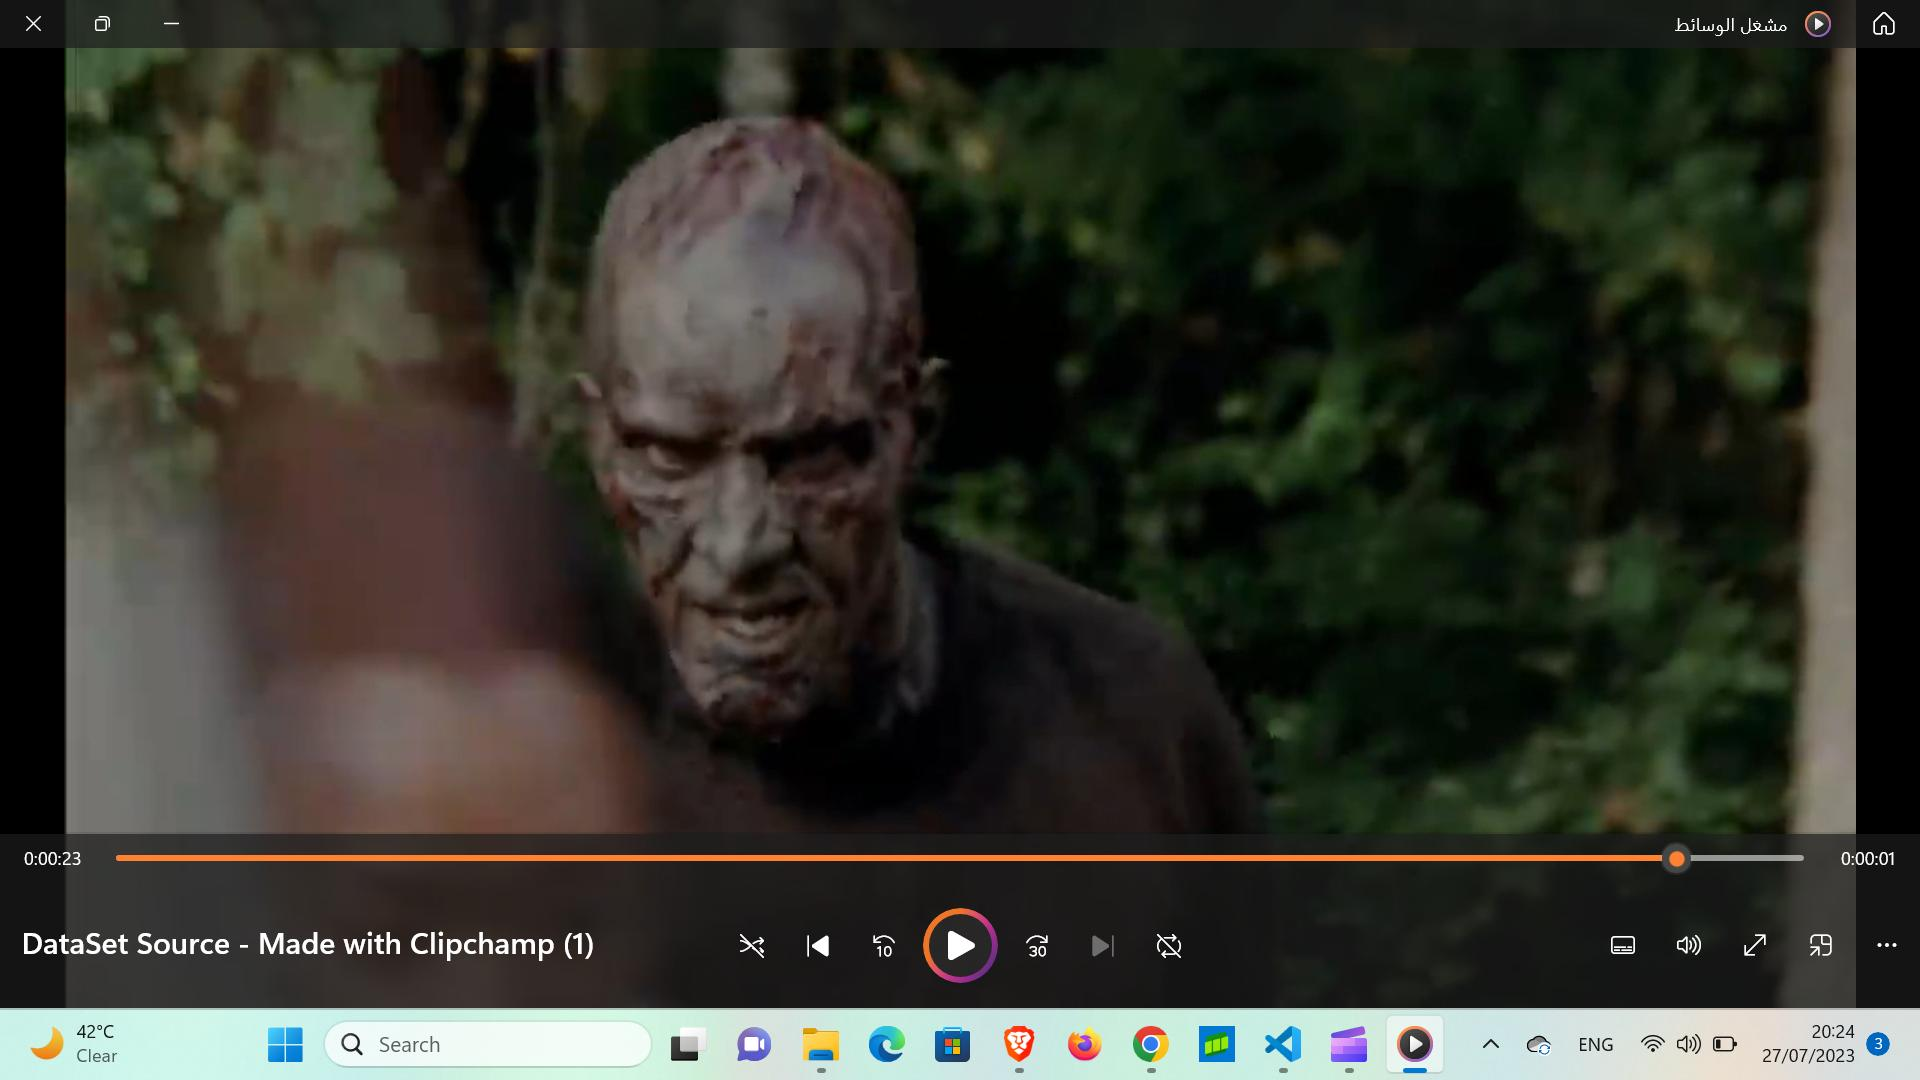Zombie: (564, 137, 945, 736)
